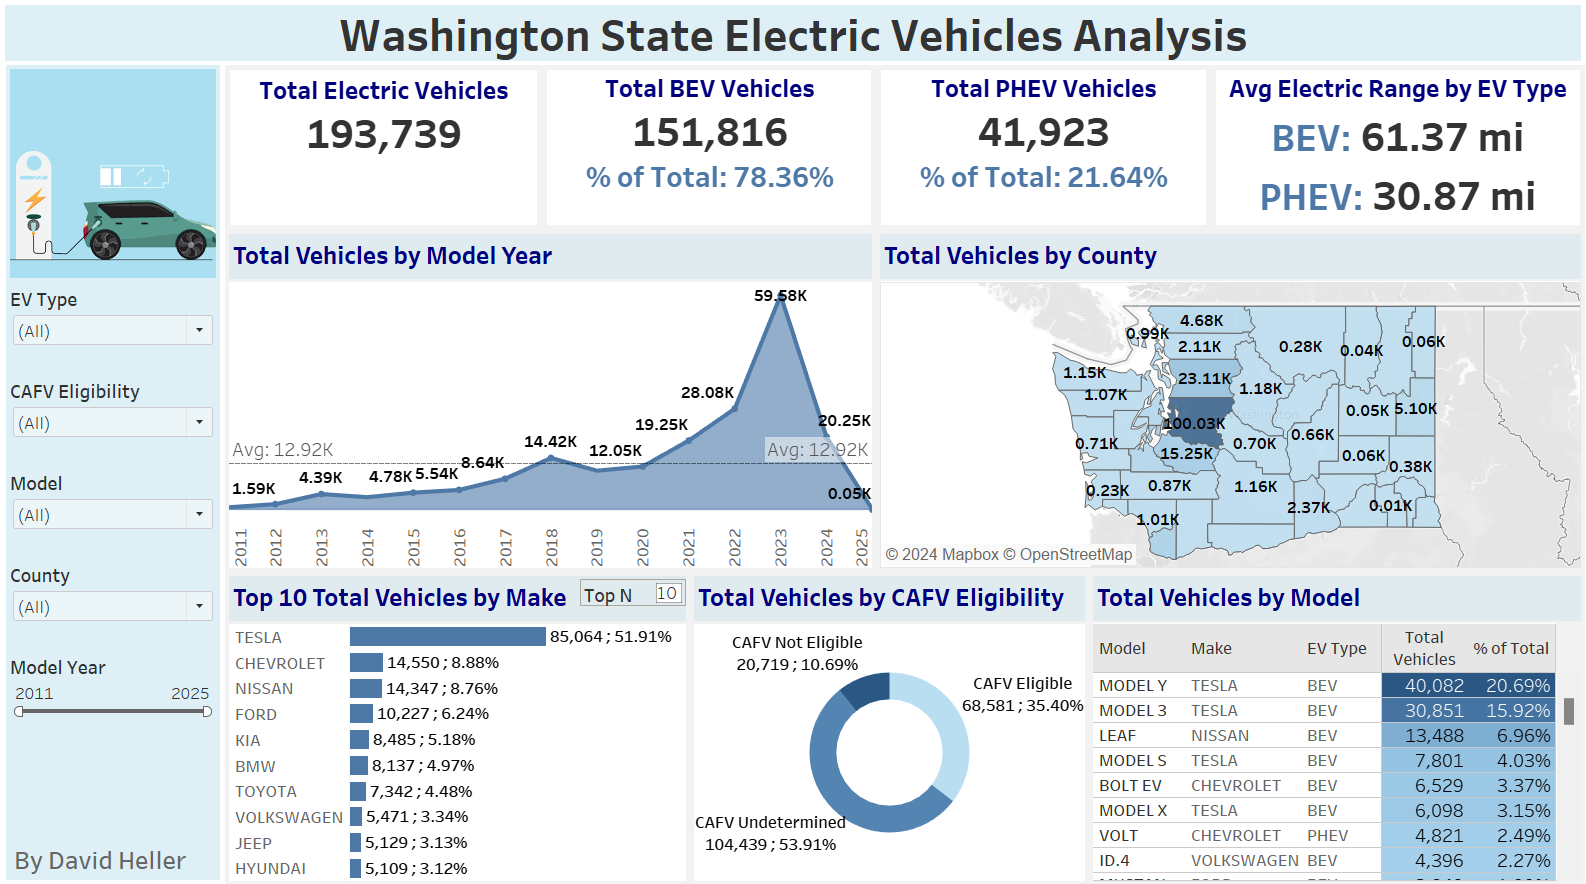

The page's visual inventory and layout, read from the dashboard file:
{"tool":"tableau","page":{"name":"Dashboard 1","canvas":[1600,900],"ordinal":0},"visuals":[{"type":"title","box":[8,8,1584,64]},{"type":"image","param":"C:/Users/david/Downloads/ev car.png","box":[13,72,214,217]},{"type":"worksheet","title":"Total Vehicles","mark":"Automatic","box":[232,72,317,165]},{"type":"worksheet","title":"Total BEV Vehicles","mark":"Automatic","box":[549,72,334.5,165]},{"type":"worksheet","title":"Total PHEV Vehicles","mark":"Automatic","box":[883.5,72,334.5,165]},{"type":"worksheet","title":"Avg Electric Range by EV type","mark":"Automatic","box":[1218,72,374,165]},{"type":"worksheet","title":"Total Vehicles by Model Year","mark":"Area","rows":["Calculation_1622984757223329792","Calculation_1622984757223329792"],"cols":["Model Year"],"box":[232,237,651.3,342]},{"type":"worksheet","title":"Total Vehicles by County","mark":"Multipolygon","box":[883.3,237,708.7,342]},{"type":"filter","title":"Total Vehicles by Model Year","param":"[federated.0rug19g053xznr191v5ok0j1htma].[none:Electric Vehicle Type:nk]","box":[13,289,214,92]},{"type":"filter","title":"Total Vehicles by Model Year","param":"[federated.0rug19g053xznr191v5ok0j1htma].[none:Clean Alternative Fuel Vehicle (C","box":[13,381,214,92]},{"type":"filter","title":"Total Vehicles by Model Year","param":"[federated.0rug19g053xznr191v5ok0j1htma].[none:Model:nk]","box":[13,473,214,92]},{"type":"filter","title":"Total Vehicles by Model Year","param":"[federated.0rug19g053xznr191v5ok0j1htma].[none:County:nk]","box":[13,565,214,92]},{"type":"worksheet","title":"Top N Total Vehicles by Make","mark":"Automatic","rows":["Make"],"cols":["Calculation_1622984757223329792"],"box":[232,579,465,313]},{"type":"worksheet","title":"Total Vehicles by CAFV Eligibility","mark":"Pie","rows":["Calculation_1622984757253918729","Calculation_1622984757253918729"],"box":[697,579,399,313]},{"type":"worksheet","title":"Total Vehicles by Model","mark":"Square","rows":["Model","Make","Electric Vehicle Type"],"box":[1096,579,496,313]},{"type":"parameter","param":"[Parameters].[Parameter 1]","box":[587,586,106,27]},{"type":"filter","title":"Total Vehicles by Model Year","param":"[federated.0rug19g053xznr191v5ok0j1htma].[none:Model Year:qk]","box":[13,657,214,92]},{"type":"blank","box":[13,749,214,32.3]},{"type":"blank","box":[13,781.3,214,32.3]},{"type":"blank","box":[13,813.6,214,32.3]},{"type":"text","box":[13,846,214,41]}]}

Visuals, with their boxes in screenshot pixels (x1, y1, x2, y2), scaled from the page's 1600x900 canvas onto the 1586x884 screenshot:
title: (8,8,1578,71)
image: (13,71,225,284)
"Total Vehicles" worksheet: (230,71,544,233)
"Total BEV Vehicles" worksheet: (544,71,876,233)
"Total PHEV Vehicles" worksheet: (876,71,1207,233)
"Avg Electric Range by EV type" worksheet: (1207,71,1578,233)
"Total Vehicles by Model Year" worksheet (Area marks): (230,233,876,569)
"Total Vehicles by County" worksheet (Multipolygon marks): (876,233,1578,569)
"Total Vehicles by Model Year" filter: (13,284,225,374)
"Total Vehicles by Model Year" filter: (13,374,225,465)
"Total Vehicles by Model Year" filter: (13,465,225,555)
"Total Vehicles by Model Year" filter: (13,555,225,645)
"Top N Total Vehicles by Make" worksheet: (230,569,691,876)
"Total Vehicles by CAFV Eligibility" worksheet (Pie marks): (691,569,1086,876)
"Total Vehicles by Model" worksheet (Square marks): (1086,569,1578,876)
parameter: (582,576,687,602)
"Total Vehicles by Model Year" filter: (13,645,225,736)
blank: (13,736,225,767)
blank: (13,767,225,799)
blank: (13,799,225,831)
text: (13,831,225,871)
